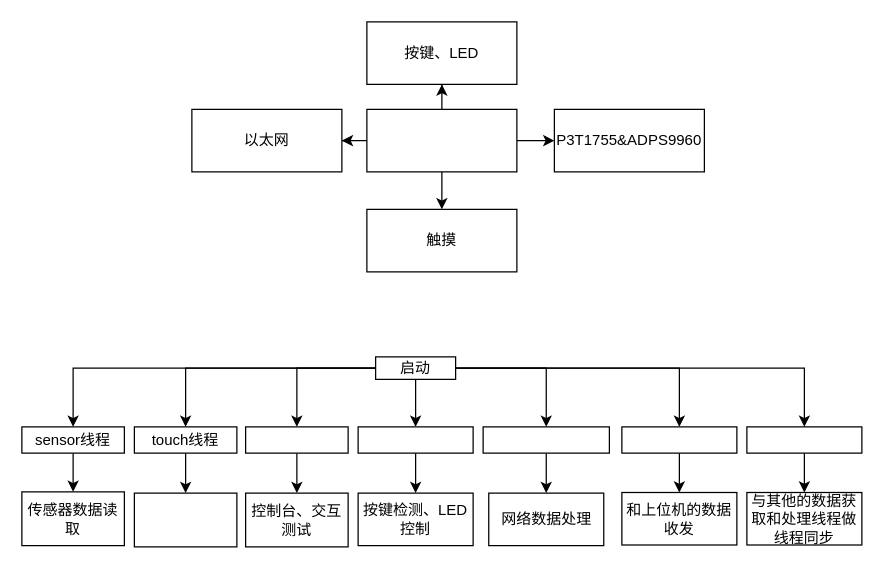
Some shapes in this 884 by 569 pixel diagram are drawn without their labels. The centre of each missing label's shape, as x and y in pixels:
"FRDM N947" goes at point (441, 140).
"LwIP协议栈多线程" goes at point (545, 439).
"main线程" goes at point (415, 439).
"TPC服务端线程" goes at point (679, 439).
"tshell线程" goes at point (296, 439).
"数据同步线程" goes at point (804, 439).
"触摸检测" goes at point (185, 519).
